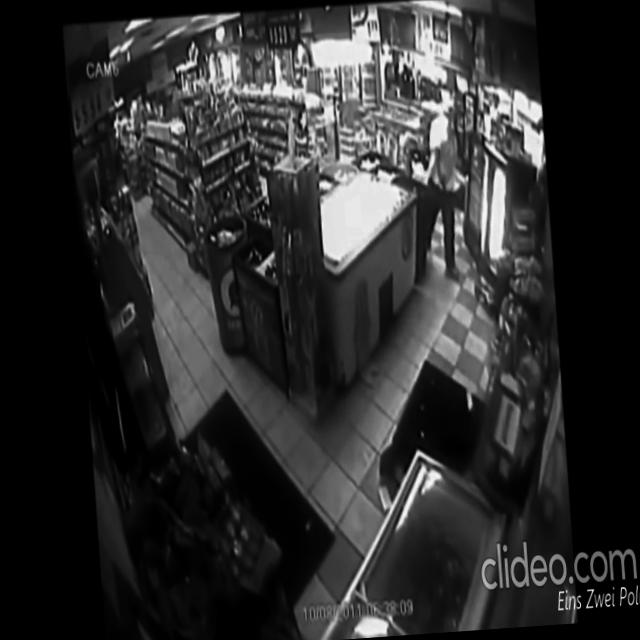gun: (434, 168, 448, 195)
person with a gun: (402, 90, 468, 286)
